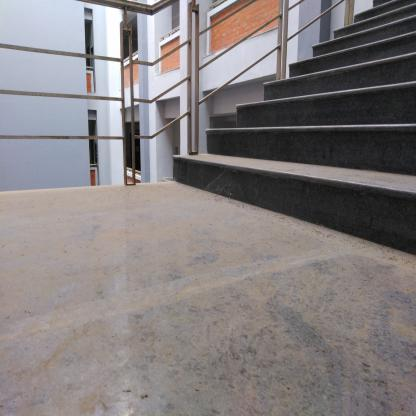stairs: (314, 44, 416, 247)
